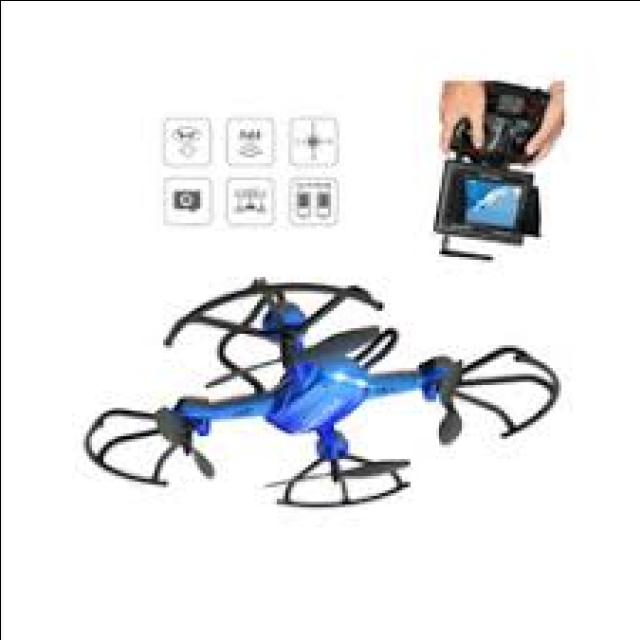drone: (50, 280, 583, 539)
